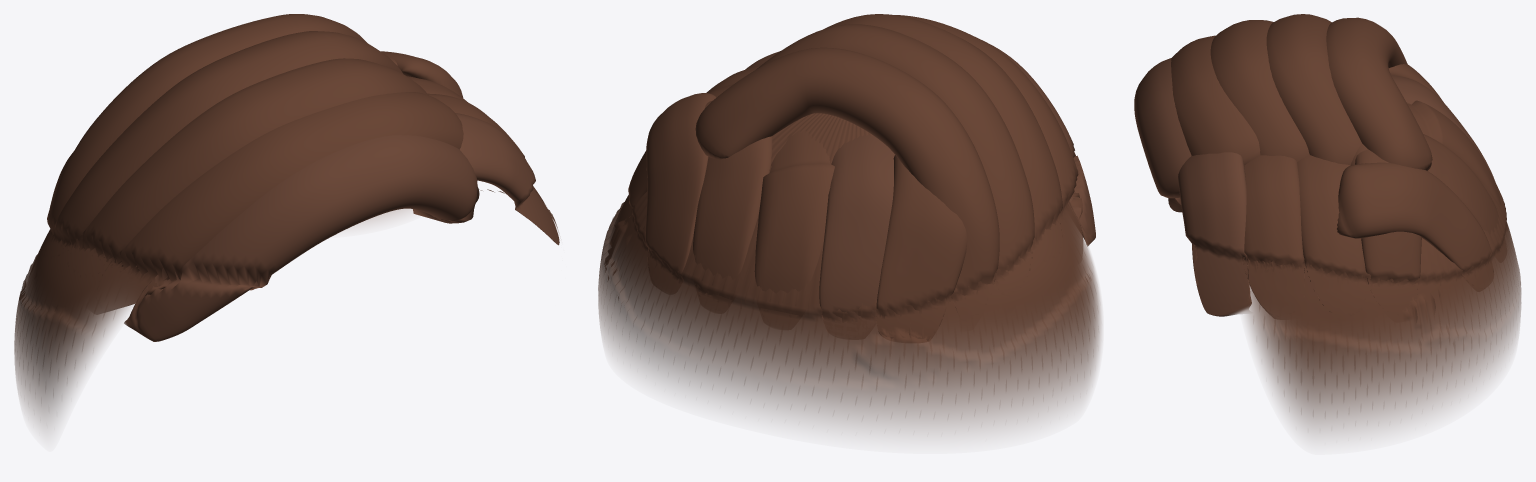
File: Masculine-taper-headband257-hair.glb
3 renders of one model, left to right at view 1: azimuth 30°, elevation 25°; view 2: azimuth 150°, elevation 25°; view 3: azimuth 270°, elevation 25°, orthographic. The views are drawn at different scales.
Parts seen in each view (by area): view 1: 226 hair / Hair252 / sculpted locks, 226 hair / Hair252 / gentle tonal variation, 226 hair / Hair257 / smooth side fade, 226 hair / Hair257 / directional fade marks; view 2: 226 hair / Hair252 / sculpted locks, 226 hair / Hair257 / smooth side fade, 226 hair / Hair252 / gentle tonal variation, 226 hair / Hair257 / directional fade marks; view 3: 226 hair / Hair252 / sculpted locks, 226 hair / Hair257 / smooth side fade, 226 hair / Hair252 / gentle tonal variation, 226 hair / Hair257 / directional fade marks.
Part boxes in pixels (left/top/right/bottom): 226 hair / Hair252 / sculpted locks: left=41, top=14, right=544, bottom=312; 226 hair / Hair252 / gentle tonal variation: left=124, top=113, right=559, bottom=341; 226 hair / Hair257 / smooth side fade: left=14, top=187, right=558, bottom=428; 226 hair / Hair257 / directional fade marks: left=16, top=236, right=139, bottom=375; 226 hair / Hair252 / sculpted locks: left=619, top=14, right=1083, bottom=340; 226 hair / Hair257 / smooth side fade: left=598, top=113, right=1101, bottom=433; 226 hair / Hair252 / gentle tonal variation: left=745, top=40, right=1095, bottom=338; 226 hair / Hair257 / directional fade marks: left=603, top=196, right=1094, bottom=402; 226 hair / Hair252 / sculpted locks: left=1171, top=14, right=1507, bottom=316; 226 hair / Hair257 / smooth side fade: left=1238, top=102, right=1521, bottom=435; 226 hair / Hair252 / gentle tonal variation: left=1134, top=58, right=1495, bottom=316; 226 hair / Hair257 / directional fade marks: left=1244, top=189, right=1506, bottom=398.
Bounding box in the file's own units: 0.9723 × 0.6944 × 0.7439.
